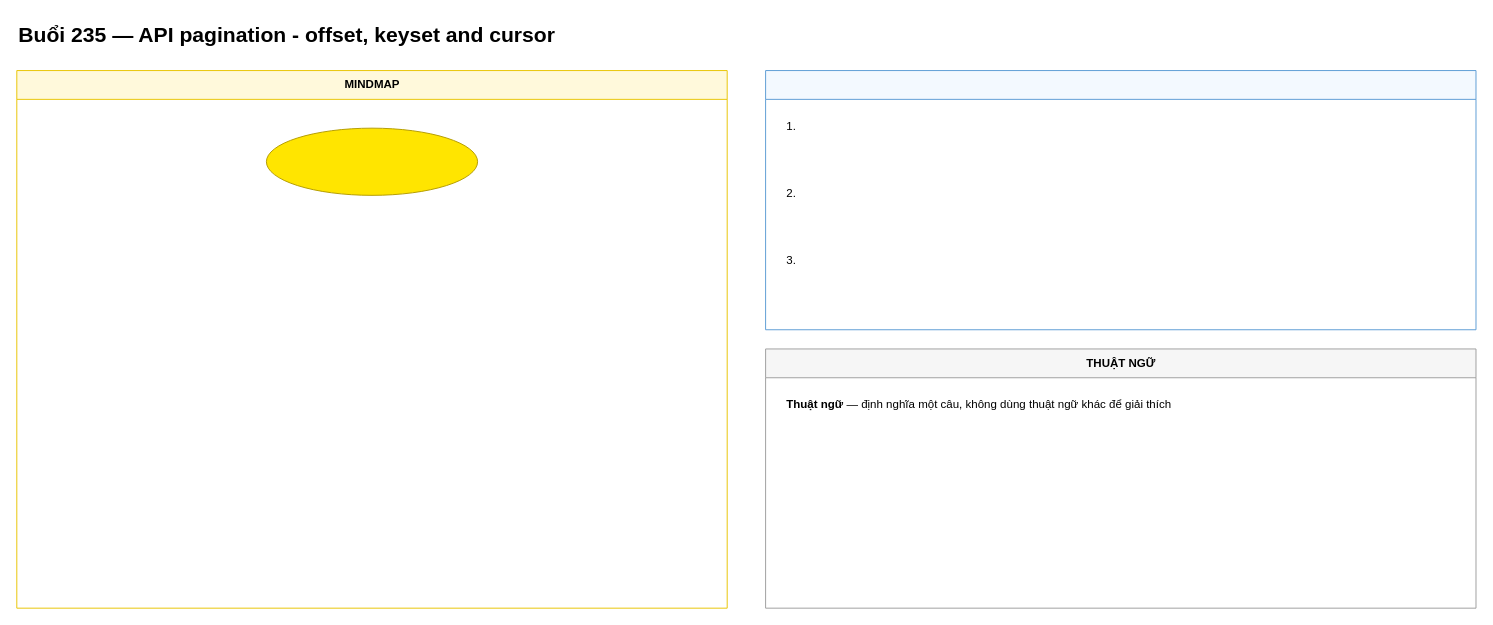
Image size: 1493x625. Some labels were removed from this diagram. Here are the shapes that lost their labels. From the top down, the box of each, then its label:
(265, 127, 478, 195): API pagination - offset, keyset and cursor
(765, 70, 1476, 330): KEY TAKEAWAY — ba điều phải nhớ
